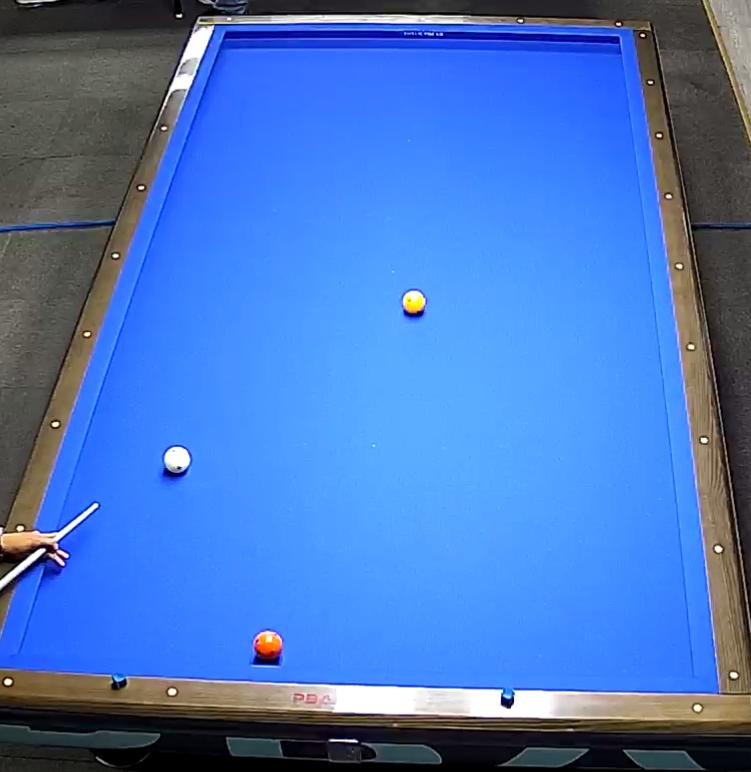orange ball: (248, 628, 289, 671)
white ball: (161, 436, 195, 483)
yellow ball: (393, 283, 434, 325)
